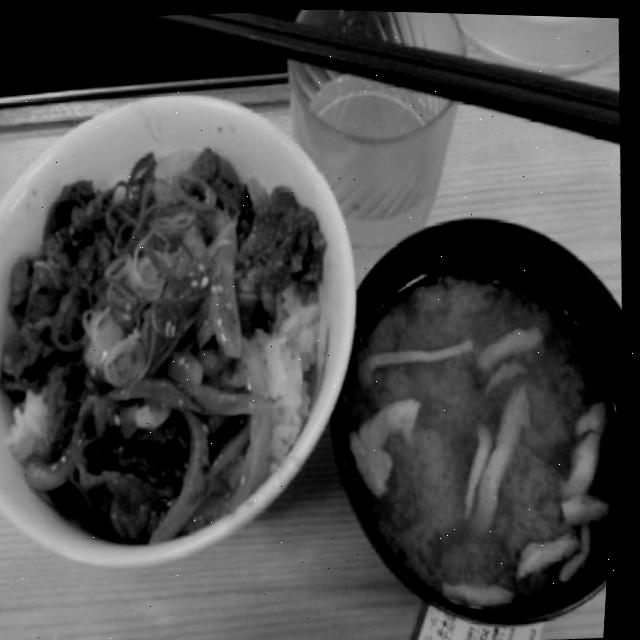汤锅炖物: (304, 187, 632, 640)
